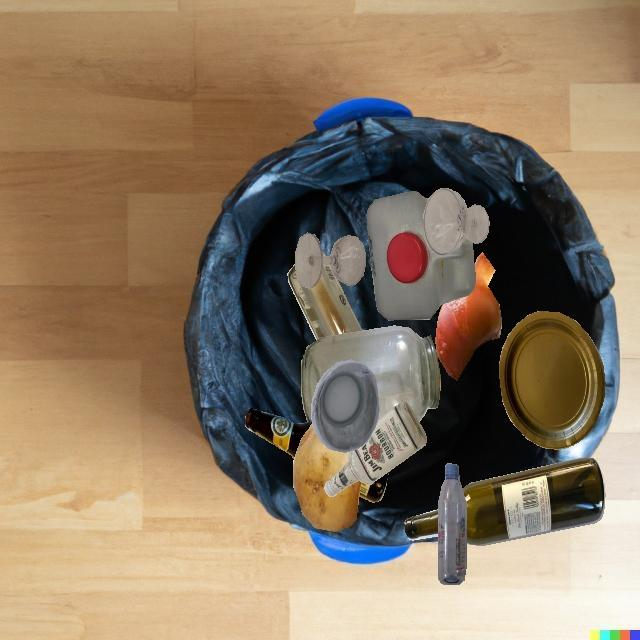biowaste: (435, 252, 502, 380), (293, 423, 361, 532)
glass: (301, 326, 441, 423), (462, 457, 605, 546), (324, 402, 427, 497), (288, 264, 363, 341), (423, 188, 489, 256), (295, 232, 366, 289), (245, 408, 312, 459), (359, 472, 388, 503)
paper: (499, 311, 605, 450)
plastic: (366, 191, 476, 320), (311, 360, 379, 453), (438, 463, 467, 584)
